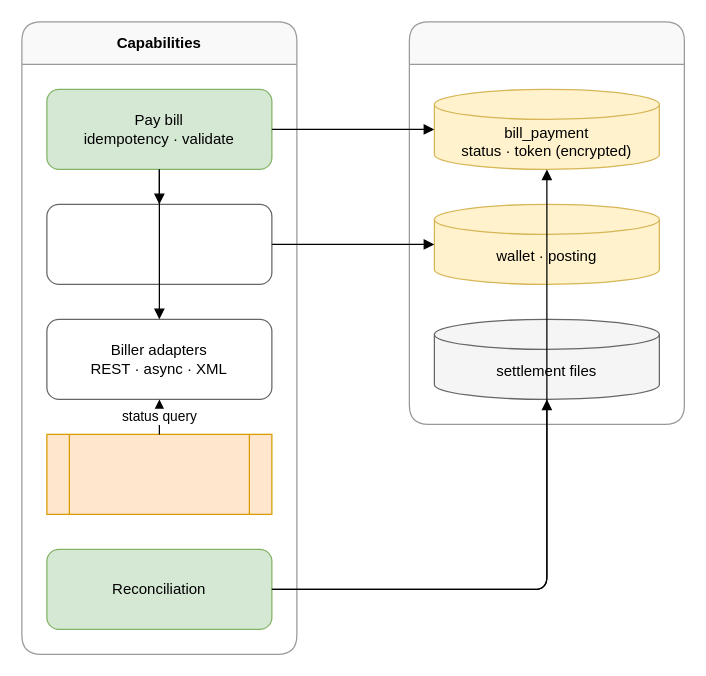
Some shapes in this 706 by 676 pixel diagram are drawn without their labels. The shapes that lost their labels are listed below. From the top down, each one's box as (x1, y1, x2, y2) in pixels, then its label:
(408, 21, 684, 424): Data
(46, 203, 272, 284): Wallet postings double entry
(46, 433, 272, 514): Unknown resolution
